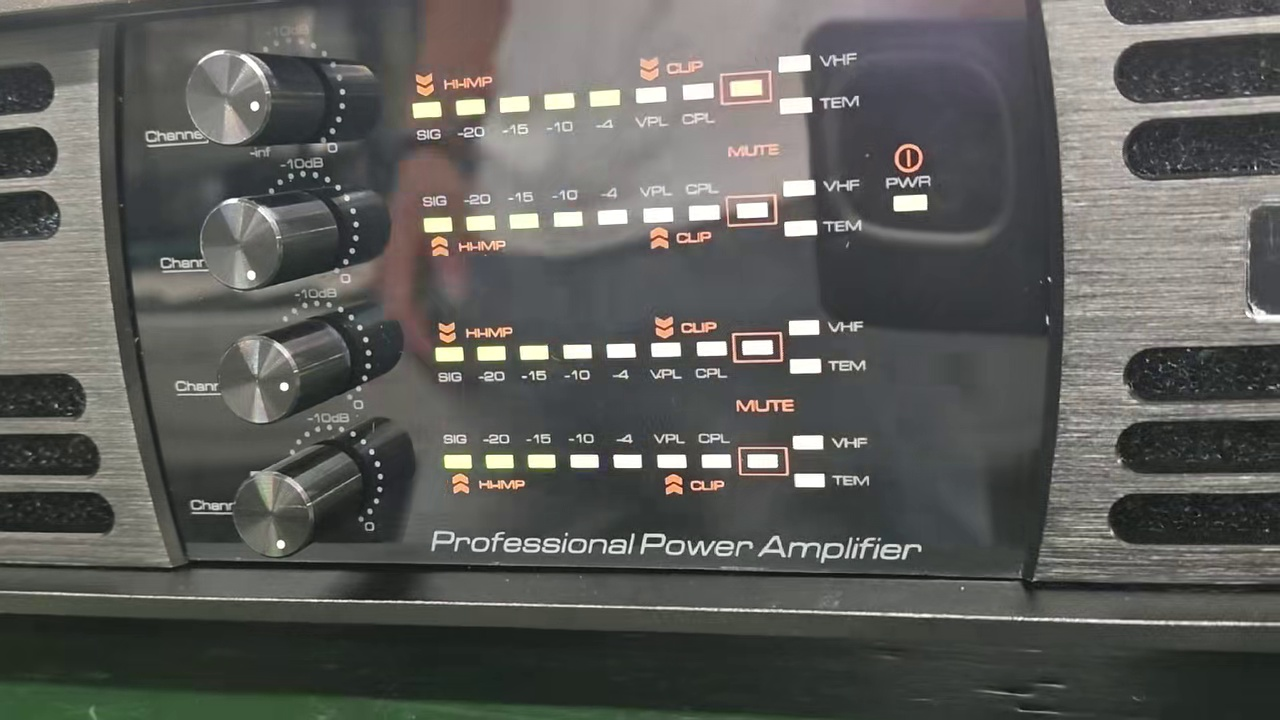FP_CPL: (676, 77, 720, 130), (684, 178, 725, 229), (693, 426, 735, 474), (694, 338, 729, 385)
FP_PWR: (884, 172, 935, 214)
FP_PWR_area: (880, 136, 939, 221)
FP_SIG_area: (407, 44, 869, 147), (417, 174, 867, 254), (438, 424, 874, 500), (429, 312, 876, 383)
FP_VPL: (632, 81, 672, 135), (637, 178, 679, 226), (647, 337, 685, 387), (651, 426, 691, 473)
